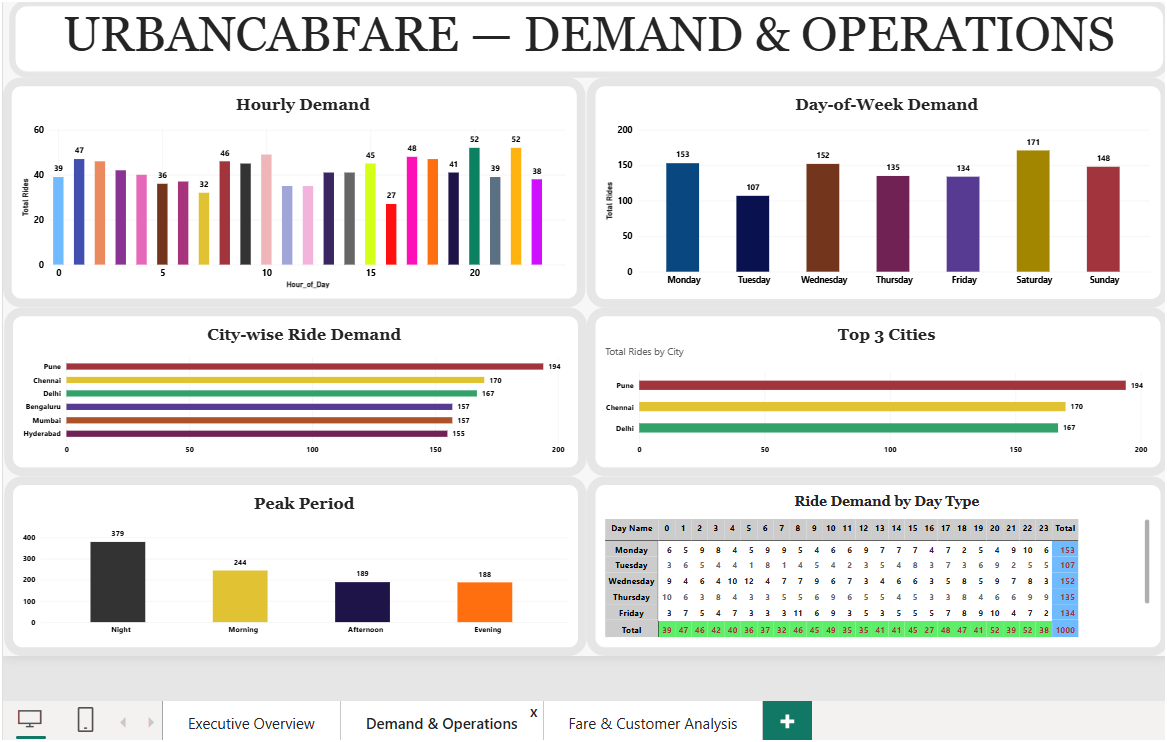

This screenshot's page, from the dashboard's own definition file:
{"tool":"powerbi","page":{"name":"Demand & Operations","canvas":[1920,1080],"ordinal":1},"visuals":[{"type":"textbox","box":[10.3,0,1910.1,127.6],"z":0},{"type":"clusteredColumnChart","title":"Hourly Demand","fields":{"Y":["UrbanCabFare.Total Rides"],"Category":["UrbanCabFare.Hour_of_Day"]},"box":[0,127.6,959.2,378.7],"z":1000},{"type":"clusteredColumnChart","title":"Day-of-Week Demand","fields":{"Y":["UrbanCabFare.Total Rides"],"Category":["UrbanCabFare.Day Name"]},"box":[961.2,127.6,959,379],"z":2000},{"type":"clusteredBarChart","title":"City-wise Ride Demand","fields":{"Y":["UrbanCabFare.Total Rides"],"Category":["UrbanCabFare.City"]},"box":[2.1,506.3,959.2,277.9],"z":3000},{"type":"clusteredBarChart","title":"Top 3 Cities","fields":{"Category":["UrbanCabFare.City"],"Y":["UrbanCabFare.Total Rides"]},"box":[961.2,506.3,959.2,277.9],"z":4000},{"type":"clusteredColumnChart","title":"Peak Period","fields":{"Category":["UrbanCabFare.Peak Period"],"Y":["UrbanCabFare.Total Rides"]},"box":[2.1,784.2,959.2,296.4],"z":5000},{"type":"pivotTable","title":"Ride Demand by Day Type","fields":{"Columns":["UrbanCabFare.Hour_of_Day"],"Values":["UrbanCabFare.Total Rides"],"Rows":["UrbanCabFare.Day Name"]},"box":[961,784,959,296],"z":6000}]}

Visuals, with their boxes on the page's 1920x1080 design canvas (x1, y1, x2, y2). These are canvas units, not pixel positions in the 1167x742 screenshot, which may show the page scaled, cropped or inside an application window:
textbox: [10, 0, 1920, 128]
"Hourly Demand" clusteredColumnChart: [0, 128, 959, 506]
"Day-of-Week Demand" clusteredColumnChart: [961, 128, 1920, 507]
"City-wise Ride Demand" clusteredBarChart: [2, 506, 961, 784]
"Top 3 Cities" clusteredBarChart: [961, 506, 1920, 784]
"Peak Period" clusteredColumnChart: [2, 784, 961, 1081]
"Ride Demand by Day Type" pivotTable: [961, 784, 1920, 1080]
